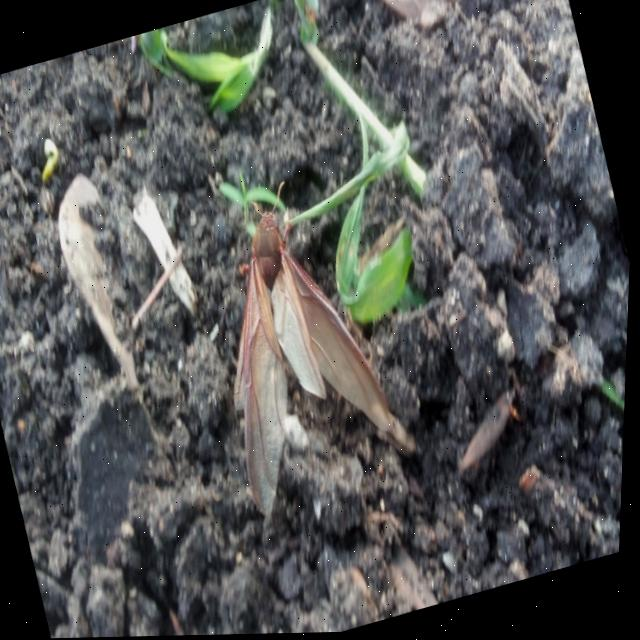Alive-Female-Alate: (175, 160, 438, 530)
